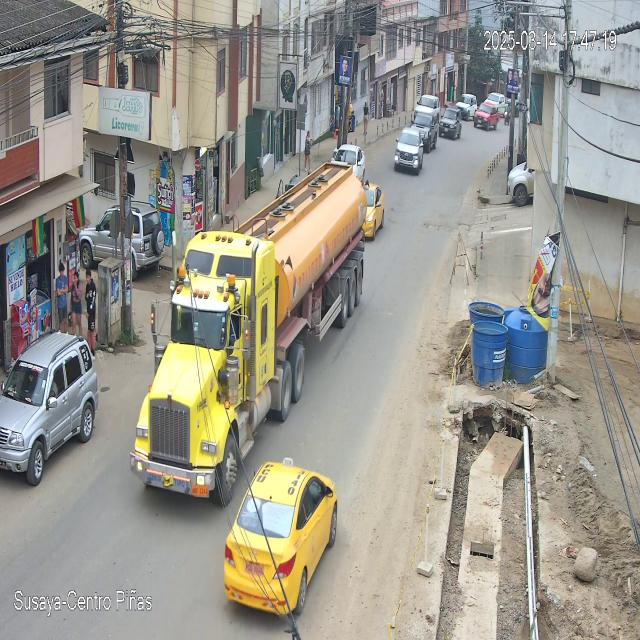SED: (223, 462, 339, 622)
TRUCK: (129, 163, 368, 509)
